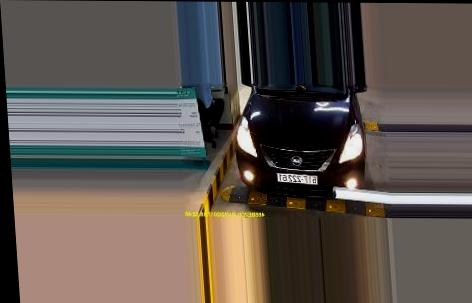License_Plate: (274, 171, 320, 185)
